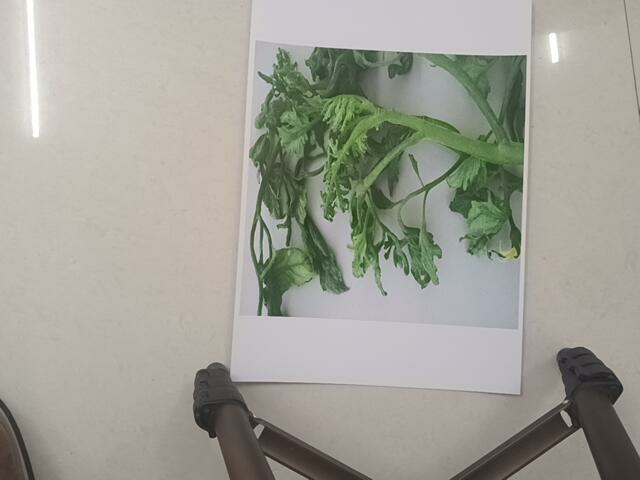Tomamto_Mosaic_virus: (249, 41, 524, 335)
